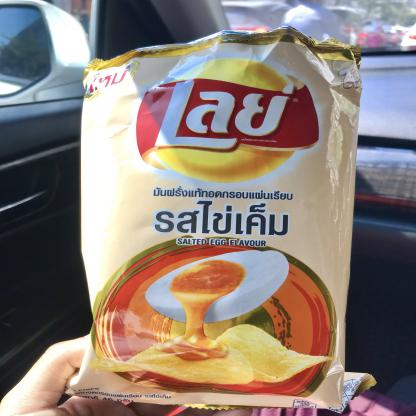potatochip: (49, 19, 374, 415)
